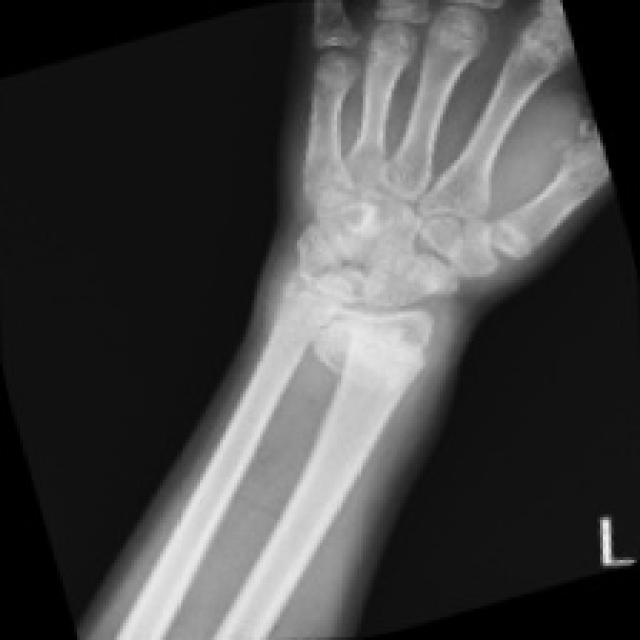fracture: (466, 219, 564, 284), (291, 26, 369, 79)
